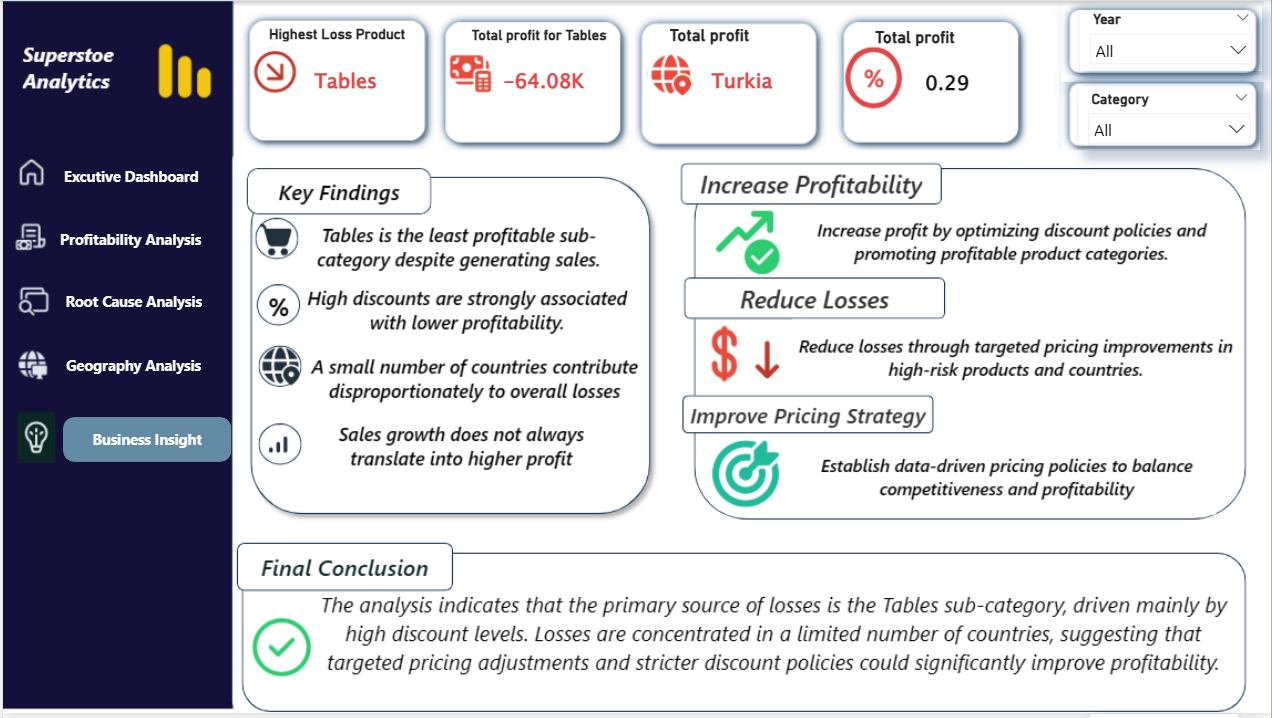

The page's visual inventory and layout, read from the dashboard file:
{"tool":"powerbi","page":{"name":"Business Insight","canvas":[1280,720],"ordinal":4},"visuals":[{"type":"shape","box":[22.7,155,213.5,47.2],"z":0},{"type":"shape","box":[24.6,281.6,215.4,45.4],"z":1000},{"type":"shape","box":[20.8,345.8,221.1,47.2],"z":2000},{"type":"shape","box":[60.5,421.4,170.1,45.4],"z":3000},{"type":"shape","box":[18.9,217.3,221.1,47.2],"z":4000},{"type":"cardVisual","title":"Highest Loss Product","fields":{"Data":["measuress.Highest Loss"]},"box":[263.3,25,165,95],"z":5000},{"type":"cardVisual","title":"Total profit","fields":{"Data":["measuress.avg discount"]},"box":[875,26.7,156.7,91.7],"z":6000},{"type":"cardVisual","title":"Total profit","fields":{"Data":["measuress.Loss country"]},"box":[667.1,26.5,156.9,92.6],"z":7000},{"type":"slicer","fields":{"Values":["Date.Year"]},"box":[1086.7,6.7,183.3,65],"z":8000},{"type":"slicer","fields":{"Values":["Dim_product.Category"]},"box":[1085,86.7,183.3,65],"z":9000},{"type":"cardVisual","title":"Total profit for Tables","fields":{"Data":["measuress.total profit"]},"box":[468.3,26.7,156.7,91.7],"z":10000}]}

Visuals, with their boxes on the page's 1280x720 design canvas (x1, y1, x2, y2). These are canvas units, not pixel positions in the 1272x718 screenshot, which may show the page scaled, cropped or inside an application window:
shape: bbox(23, 155, 236, 202)
shape: bbox(25, 282, 240, 327)
shape: bbox(21, 346, 242, 393)
shape: bbox(60, 421, 231, 467)
shape: bbox(19, 217, 240, 264)
"Highest Loss Product" cardVisual: bbox(263, 25, 428, 120)
"Total profit" cardVisual: bbox(875, 27, 1032, 118)
"Total profit" cardVisual: bbox(667, 26, 824, 119)
slicer - Date.Year: bbox(1087, 7, 1270, 72)
slicer - Dim_product.Category: bbox(1085, 87, 1268, 152)
"Total profit for Tables" cardVisual: bbox(468, 27, 625, 118)
